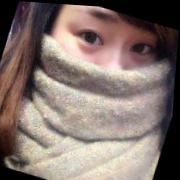WRONG: (32, 3, 176, 142)
